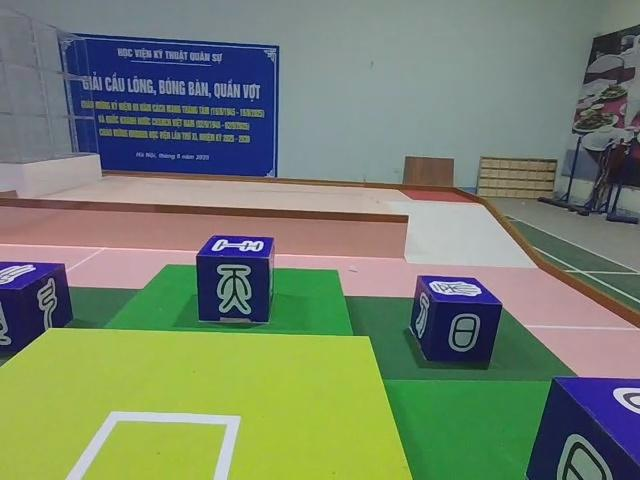R2 Fake Blue: (522, 377, 638, 480), (407, 276, 501, 368), (0, 264, 71, 368), (194, 235, 276, 325)
